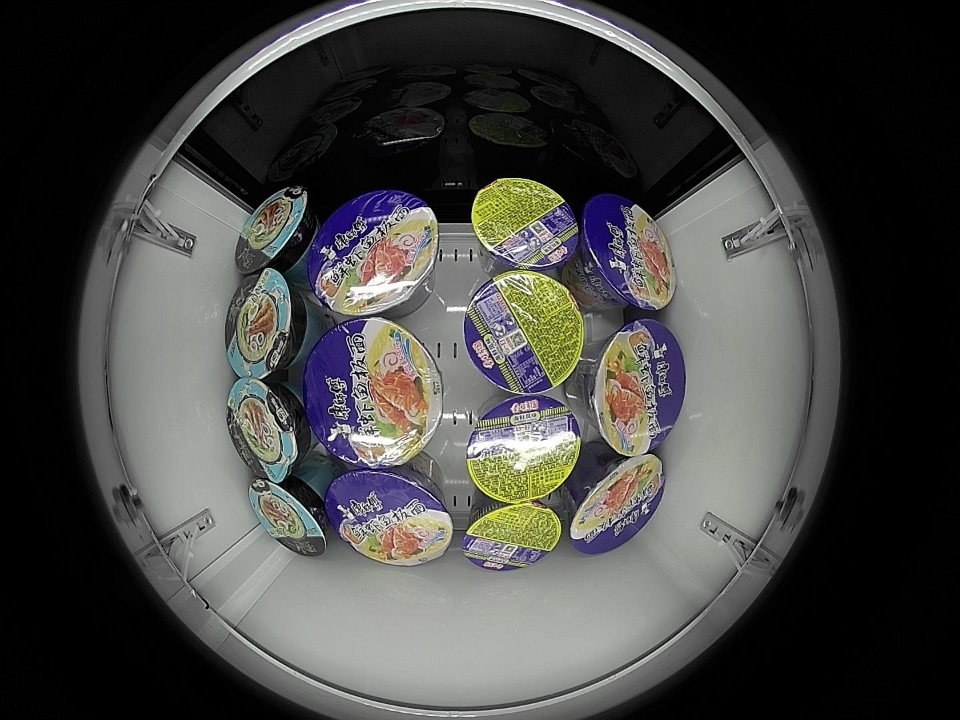heweidao: (463, 269, 585, 395), (465, 395, 583, 503), (470, 178, 580, 272), (460, 500, 563, 572)
tangdaren3: (224, 268, 305, 379), (226, 377, 309, 482), (235, 185, 315, 275), (248, 475, 330, 558)
xianxiayuban: (303, 317, 443, 469), (306, 189, 440, 317), (587, 319, 686, 456), (324, 468, 454, 566), (580, 194, 676, 312), (567, 454, 666, 555)
